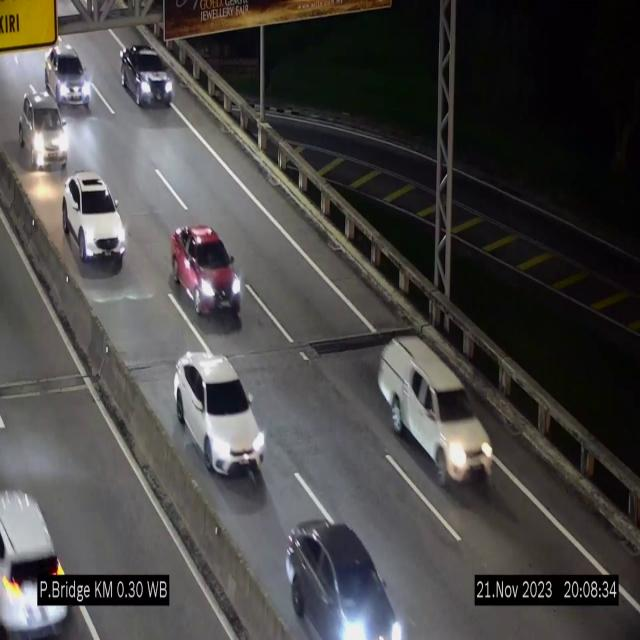Car: (377, 331, 498, 486), (286, 513, 406, 640), (0, 470, 78, 638), (174, 351, 266, 473), (171, 225, 243, 323), (63, 174, 126, 268), (18, 91, 70, 175), (45, 45, 97, 115), (121, 44, 173, 106)
